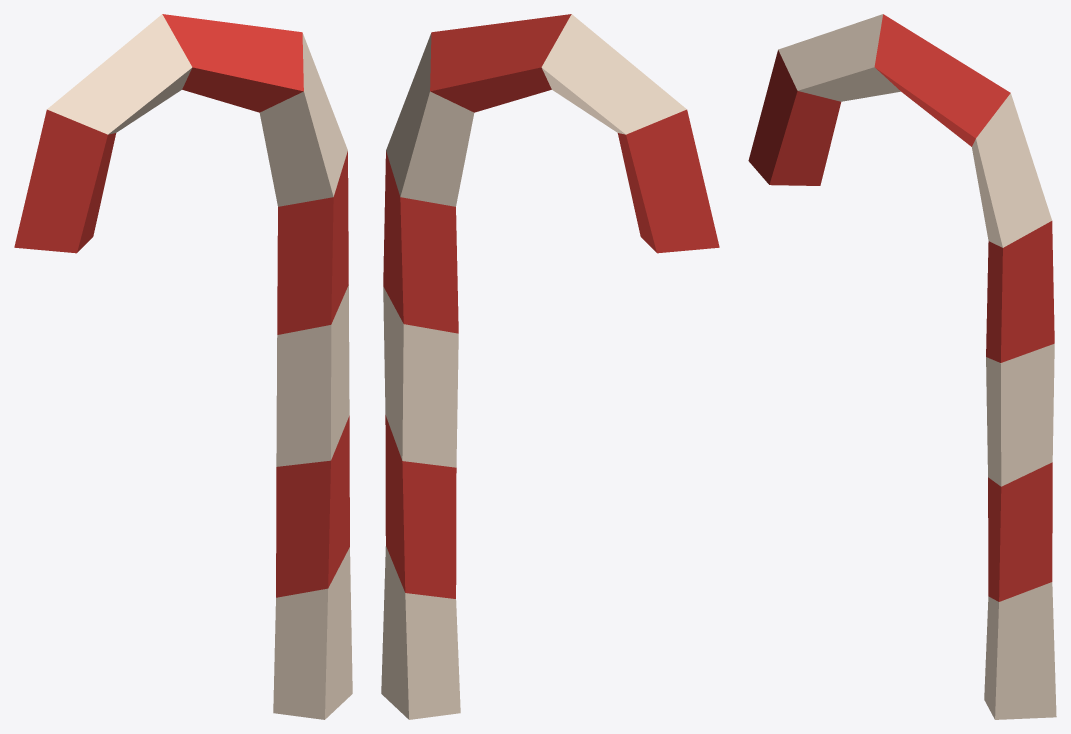
File: candy-cane.glb
The picture shows the model from 3 angles, left to right: view 1: azimuth 30°, elevation 25°; view 2: azimuth 150°, elevation 25°; view 3: azimuth 330°, elevation 25°; orthographic projection. The views are drawn at different scales.
Parts seen in each view (by area): view 1: candy_cane; view 2: candy_cane; view 3: candy_cane.
Part boxes in pixels (x1=…): candy_cane: x1=14, y1=14, x2=352, y2=719; candy_cane: x1=381, y1=14, x2=719, y2=719; candy_cane: x1=748, y1=14, x2=1056, y2=719.
Bounding box in the file's own units: 0.0975 × 0.1999 × 0.02.
1 material, 1 textured.
